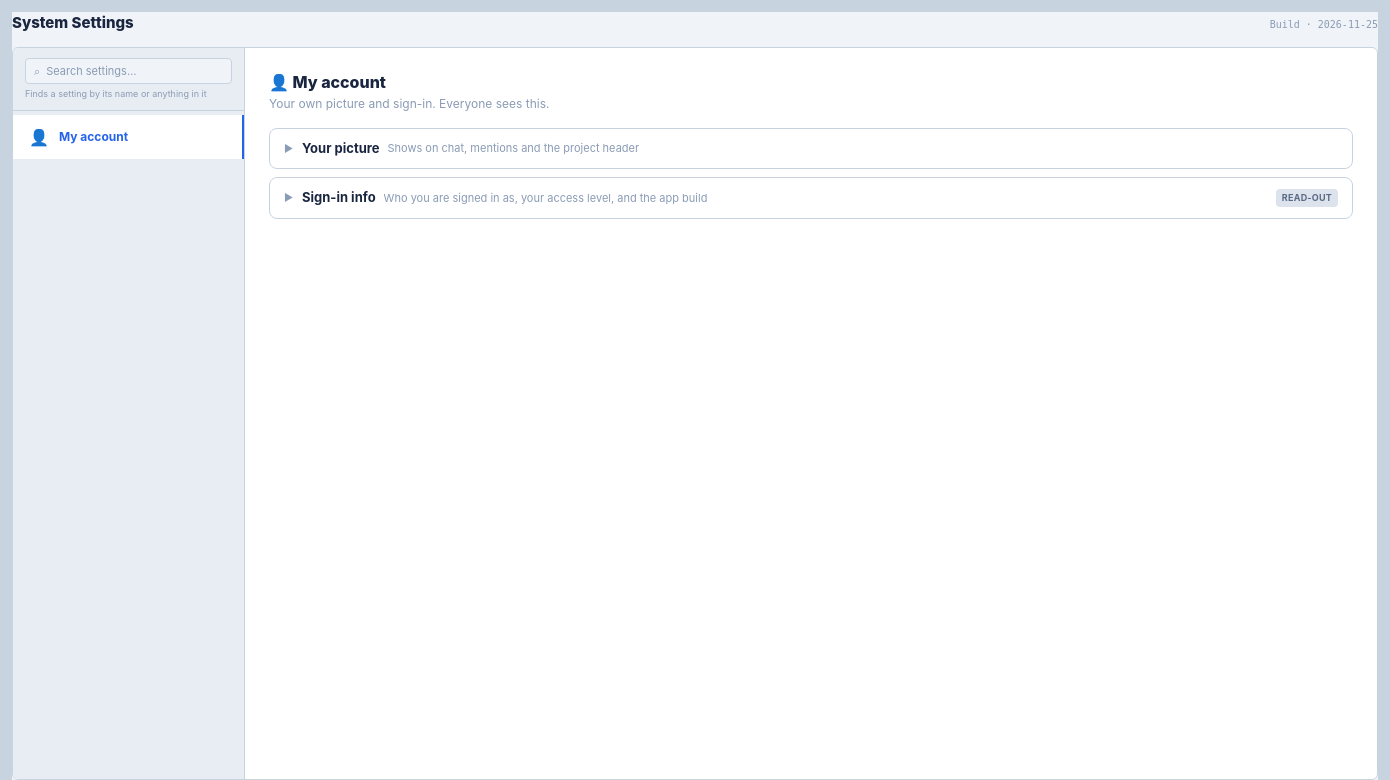
it: fix-611 §D — the search box, rendered › ★★ a non-admin cannot find an admin-only block
Step 1. Type "Kirkland" into the field with test id "settings-search" → (135, 71), box 46,62 -> 223,79
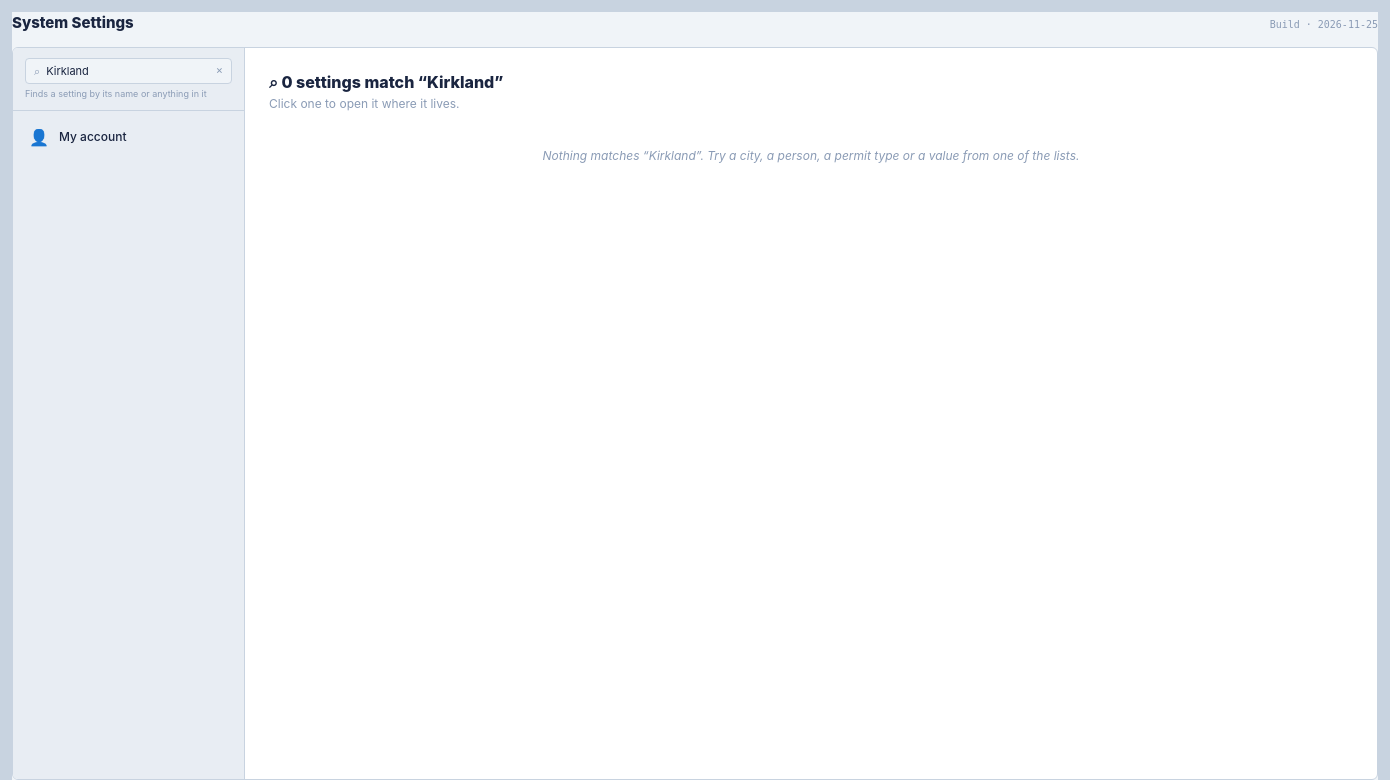
Expected: the text with test id "settings-search-empty" is shown, 543,148 -> 1079,162
